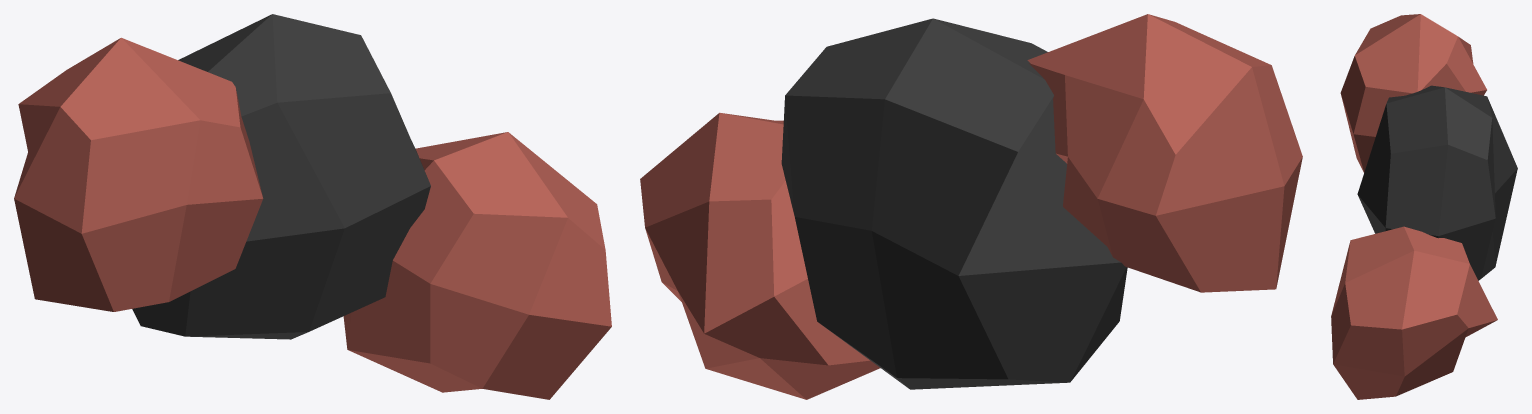
Rendered from rocks2.fbx.
3 views of the same model, side by side, from view 1: azimuth 30°, elevation 25°; view 2: azimuth 150°, elevation 25°; view 3: azimuth 270°, elevation 25° (orthographic). The views are drawn at different scales.
Parts seen in each view (by area): view 1: Rocks 2; view 2: Rocks 2; view 3: Rocks 2.
Boxes of the visible parts, x1,y1,x2,y2 form: Rocks 2: [14, 14, 611, 399]; Rocks 2: [640, 14, 1302, 399]; Rocks 2: [1331, 14, 1517, 399].
Size of the model in its own units: 25973 by 18263 by 11428.
